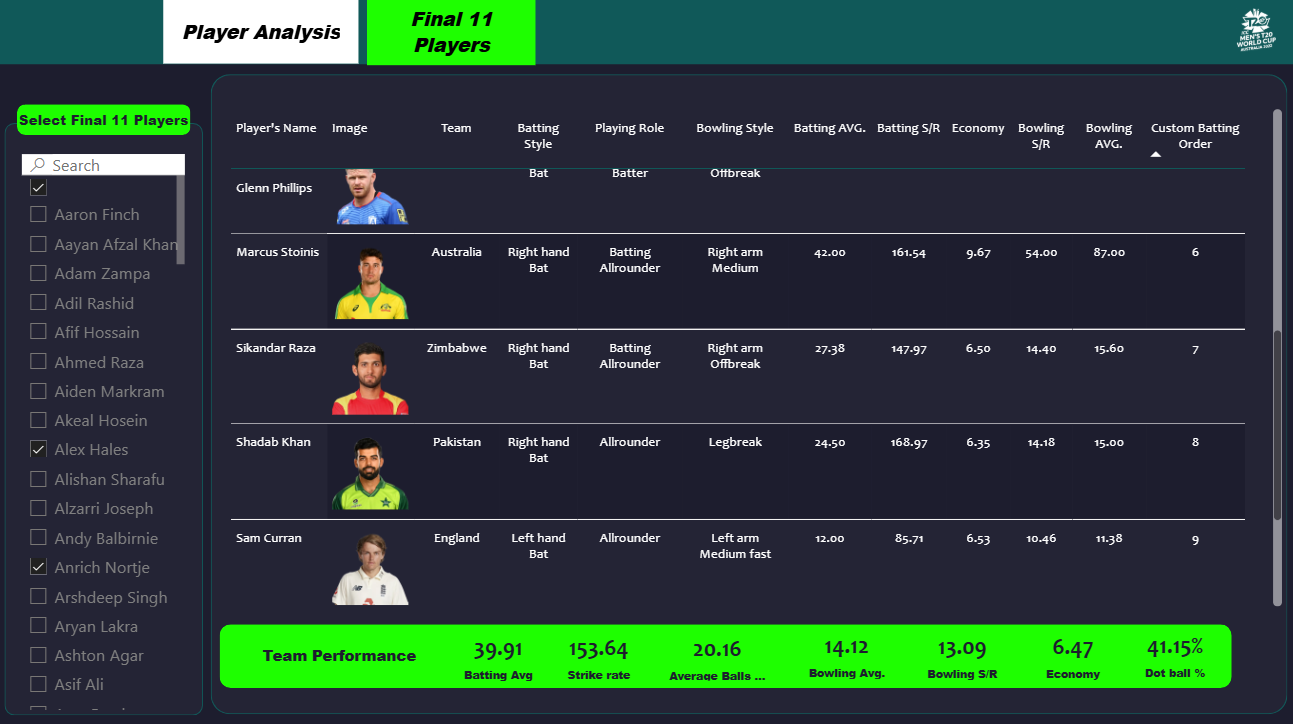

Layout of this report page (visuals, bound fields, positions):
{"tool":"powerbi","page":{"name":"Final 11 Players","canvas":[1280,720],"ordinal":5},"visuals":[{"type":"shape","box":[0,66,1280,654],"z":0},{"type":"image","box":[1220,3,48,59],"z":1000},{"type":"shape","box":[7,122.9,196,585.1],"z":1000,"group":"g1"},{"type":"shape","box":[210.7,75.5,1063.4,632.2],"z":2000},{"type":"actionButton","title":"Button Player Ana selected","box":[365.6,0,166.5,66.4],"z":3000},{"type":"actionButton","title":"Button Player Ana selected","box":[164.1,0,193,65.1],"z":4000},{"type":"group","id":"g1","title":"Group 1","box":[7,122.9,196,585.1],"z":6000},{"type":"shape","box":[19.6,104.9,171.5,30.4],"z":7000},{"type":"pivotTable","fields":{"Values":["Min(dim_player.team)","Min(dim_player.Batting Style)","Min(dim_player.Playing Role)","Min(dim_player.Bowling Style)","Key_Measures.Bat Avg","Key_Measures.Strike rate","Key_Measures.Economy","Key_Measures.Bowling Strike Rate","Key_Measures.Bowling Average","Sum(dim_player.Custom Batting Order)"],"Rows":["dim_player.name","dim_player.image"]},"box":[225.3,105.1,1048.1,501.3],"z":8000},{"type":"shape","box":[219.9,618.4,999.7,63],"z":9000},{"type":"card","fields":{"Values":["Key_Measures.Strike rate"]},"box":[548.4,620.2,93,60],"z":10000},{"type":"slicer","fields":{"Values":["dim_player.name"]},"box":[19.7,149.3,170.5,558.7],"z":11000,"group":"g1"},{"type":"card","fields":{"Values":["Key_Measures.Avergate Balls Faced"]},"box":[657.3,621.9,109.5,56.9],"z":11000},{"type":"card","fields":{"Values":["Key_Measures.Bat Avg"]},"box":[449.4,620.2,92,60],"z":12000},{"type":"card","fields":{"Values":["Key_Measures.Bowling Strike Rate"]},"box":[907.4,618.4,92.3,60.4],"z":13000},{"type":"card","fields":{"Values":["Key_Measures.Economy"]},"box":[1012.6,618.4,100.9,60.4],"z":14000},{"type":"card","fields":{"Values":["Key_Measures.Dot ball %"]},"box":[1113.5,617.6,100.1,60.4],"z":15000},{"type":"card","fields":{"Values":["Key_Measures.Bowling Average"]},"box":[794.4,617.6,91.4,60.4],"z":16000},{"type":"shape","box":[251.8,632.1,172.5,34.3],"z":17000}]}

Visuals, with their boxes on the page's 1280x720 design canvas (x1, y1, x2, y2). These are canvas units, not pixel positions in the 1293x724 screenshot, which may show the page scaled, cropped or inside an application window:
shape: Rect(0, 66, 1280, 720)
image: Rect(1220, 3, 1268, 62)
shape: Rect(7, 123, 203, 708)
shape: Rect(211, 76, 1274, 708)
"Button Player Ana selected" actionButton: Rect(366, 0, 532, 66)
"Button Player Ana selected" actionButton: Rect(164, 0, 357, 65)
"Group 1" group: Rect(7, 123, 203, 708)
shape: Rect(20, 105, 191, 135)
pivotTable - Min(dim_player.team) x Min(dim_player.Batting Style): Rect(225, 105, 1273, 606)
shape: Rect(220, 618, 1220, 681)
card - Key_Measures.Strike rate: Rect(548, 620, 641, 680)
slicer - dim_player.name: Rect(20, 149, 190, 708)
card - Key_Measures.Avergate Balls Faced: Rect(657, 622, 767, 679)
card - Key_Measures.Bat Avg: Rect(449, 620, 541, 680)
card - Key_Measures.Bowling Strike Rate: Rect(907, 618, 1000, 679)
card - Key_Measures.Economy: Rect(1013, 618, 1114, 679)
card - Key_Measures.Dot ball %: Rect(1114, 618, 1214, 678)
card - Key_Measures.Bowling Average: Rect(794, 618, 886, 678)
shape: Rect(252, 632, 424, 666)
